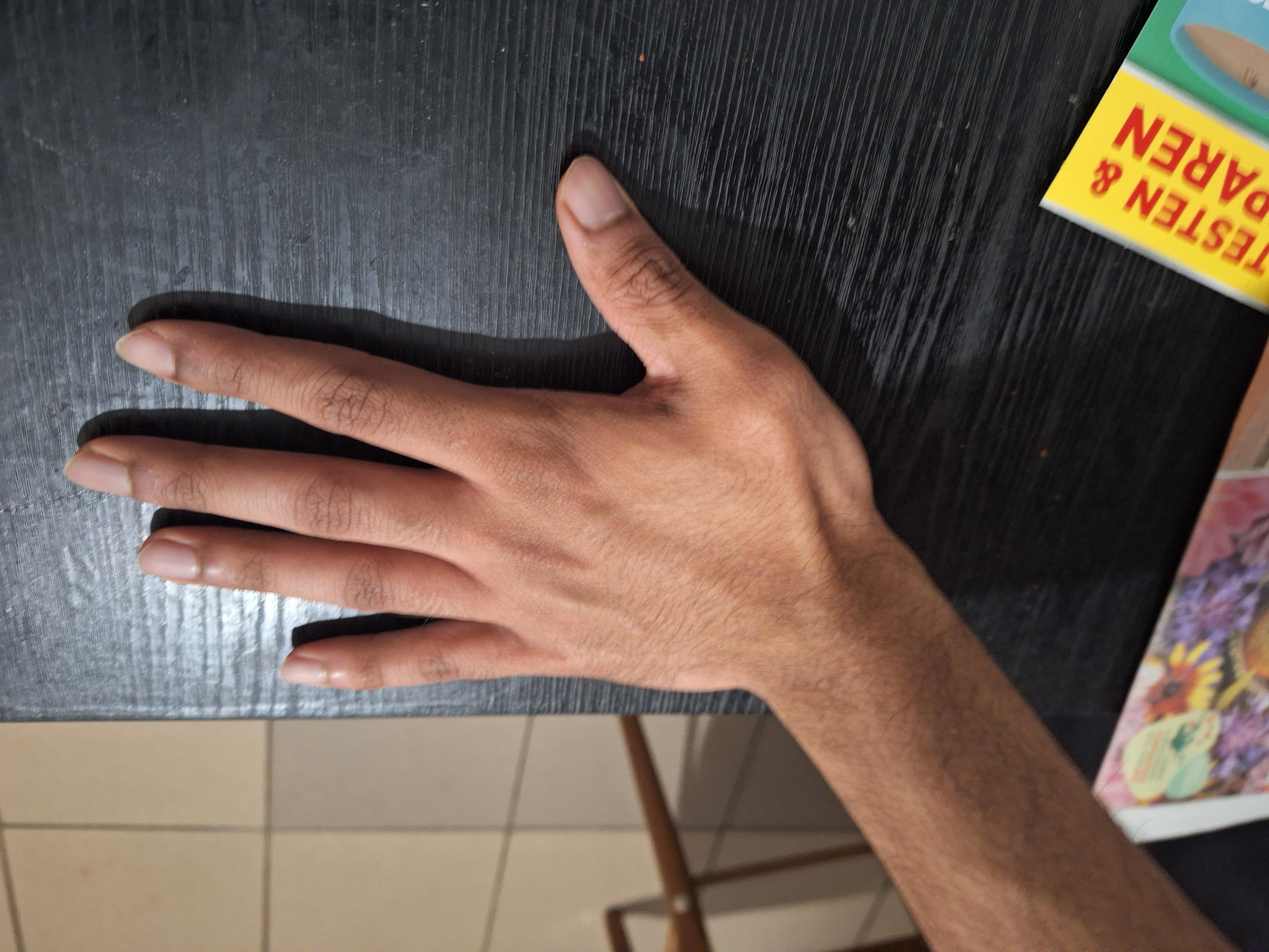Fingernail: (562, 157, 632, 230), (63, 451, 132, 497), (115, 327, 176, 377), (137, 539, 196, 581), (281, 656, 329, 685)
